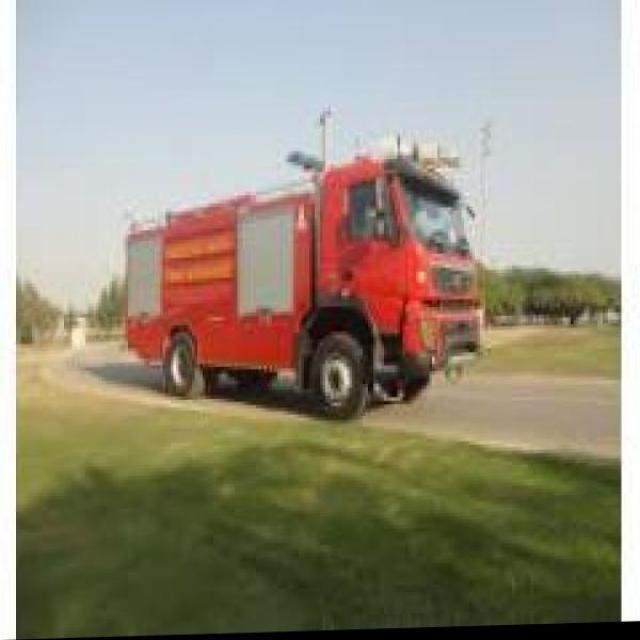emergency: (120, 118, 488, 420)
